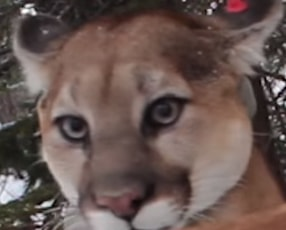Mountain Lion: (15, 6, 281, 228)
